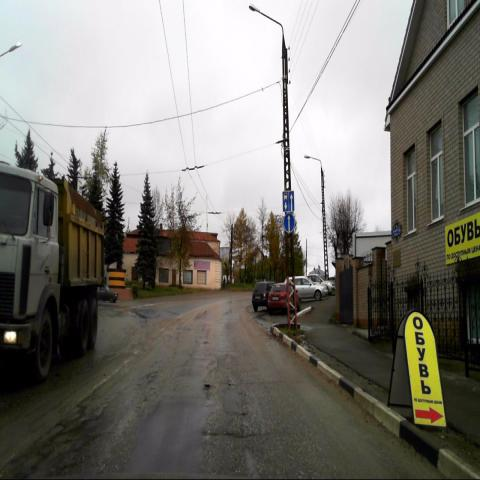4_1_1: (283, 213, 295, 233)
5_11: (282, 191, 295, 212)
